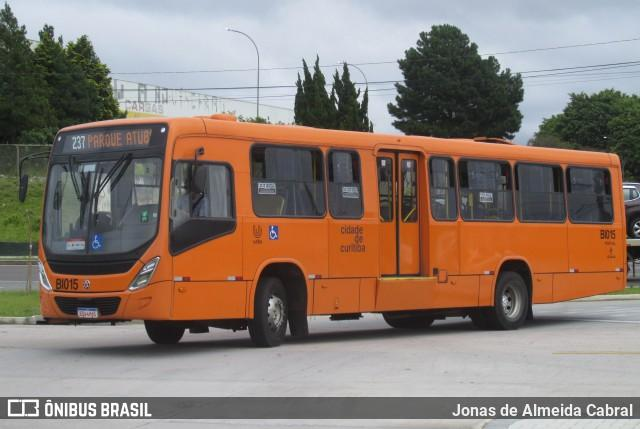PARQUE ATUBA: (84, 127, 155, 151)
